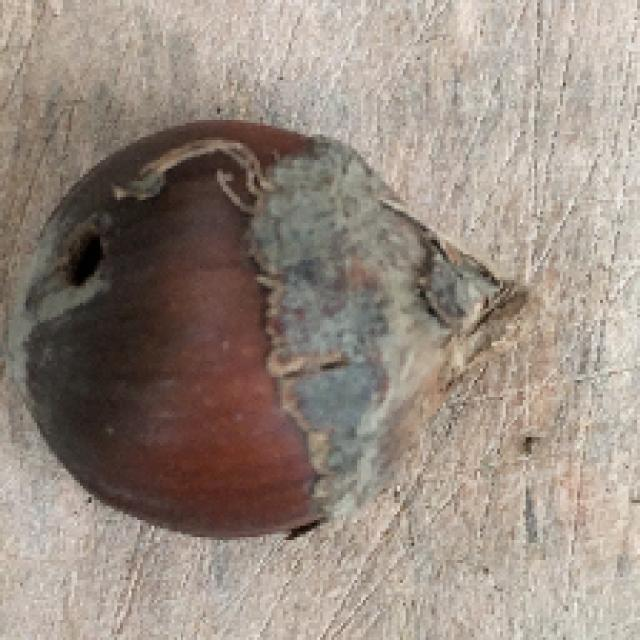damagedHazelnut: (11, 123, 528, 545)
